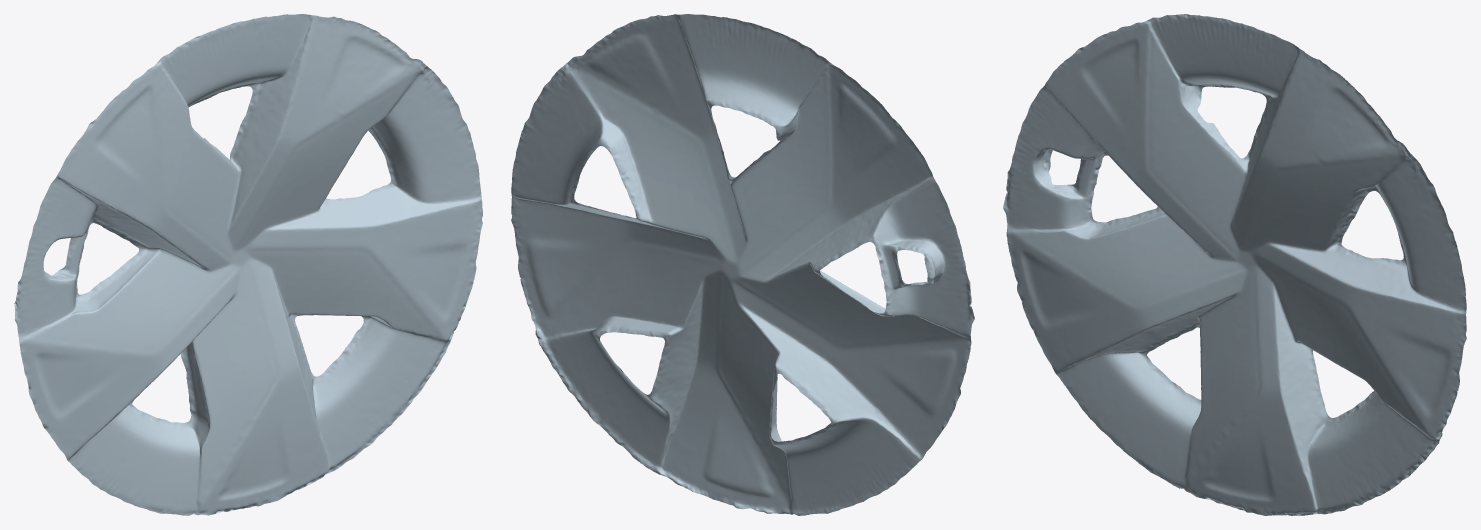
File: wheel cover.compressed.glb
3 views of the same model, side by side, from view 1: azimuth 30°, elevation 25°; view 2: azimuth 150°, elevation 25°; view 3: azimuth 330°, elevation 25° (orthographic).
Visible parts, largest first — view 1: MainModel; view 2: MainModel; view 3: MainModel.
Part boxes in pixels (x1,y1,x2,y2): MainModel: [14, 14, 482, 515]; MainModel: [511, 14, 974, 515]; MainModel: [1003, 14, 1466, 515].
Size of the model in its own units: 4.99 by 5 by 0.3664.
